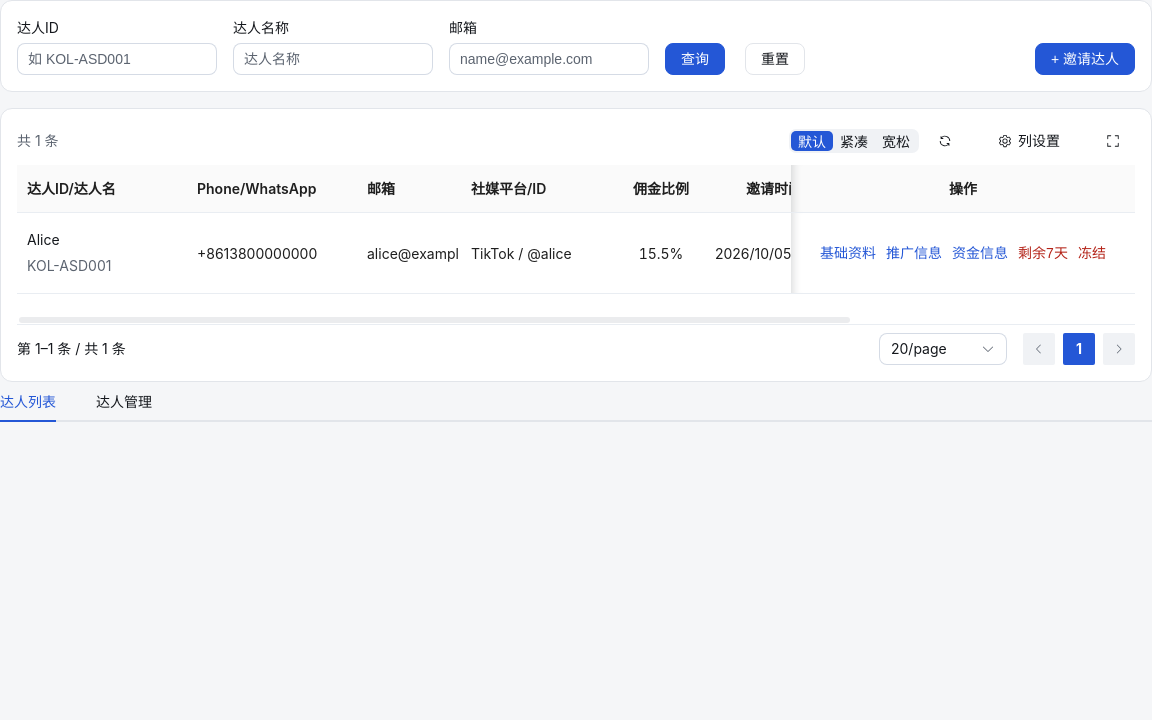
it: creator list page (task 32 §2.2) › opens the per-creator cleanup dialog from the row
What coordinates should you click on to do the following:
click the button "剩余7天"
I would click on:
 (1043, 253)
Its box is 1017,241 -> 1069,265.
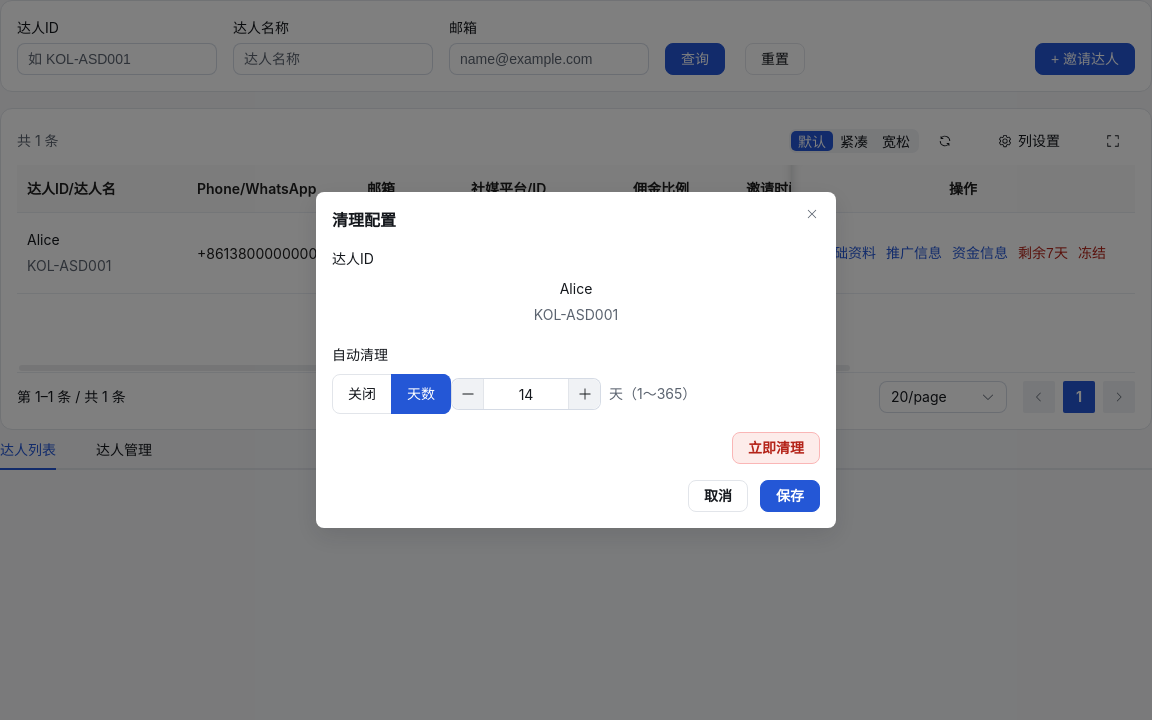
Expected: the text "清理配置" is shown, 332,210 -> 396,230
Expected: the text "立即清理" is shown, 748,437 -> 804,459
